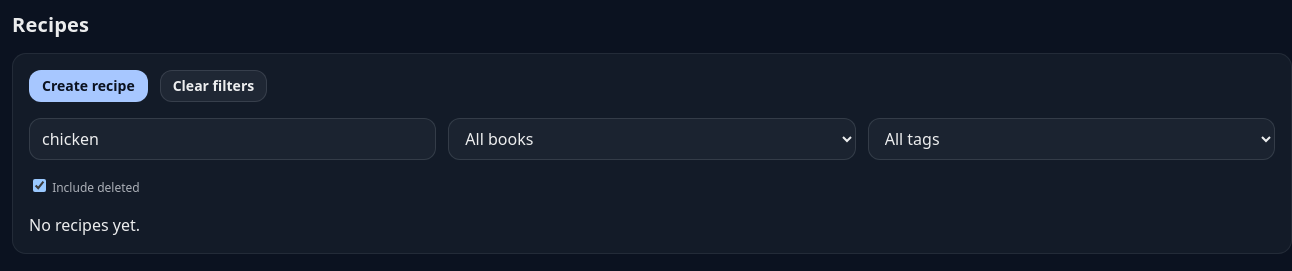
RecipeListPage › clears filters
Expected: the field with placeholder "Search recipes" holds "chicken", [29,118,436,160]
Expected: the checkbox labelled "Include deleted" is checked, [33,179,46,192]
Click the button "Clear filters". click: [213, 86]
box: [160,70,267,102]
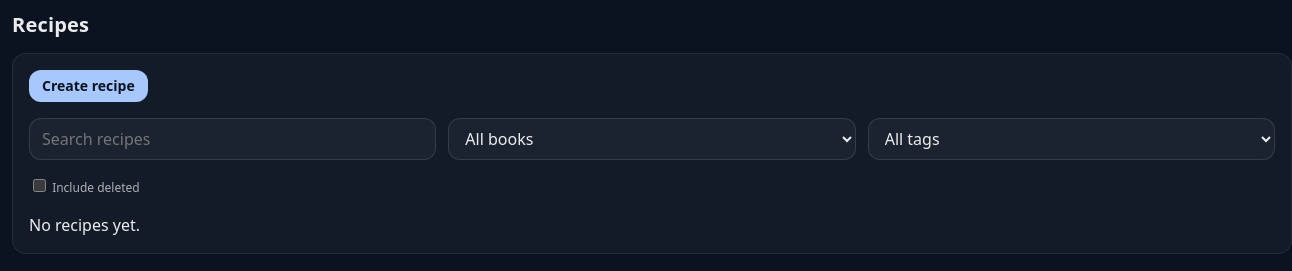
Expected: the field with placeholder "Search recipes" is empty, [29,118,436,160]
Expected: the checkbox labelled "Include deleted" is not checked, [33,179,46,192]
